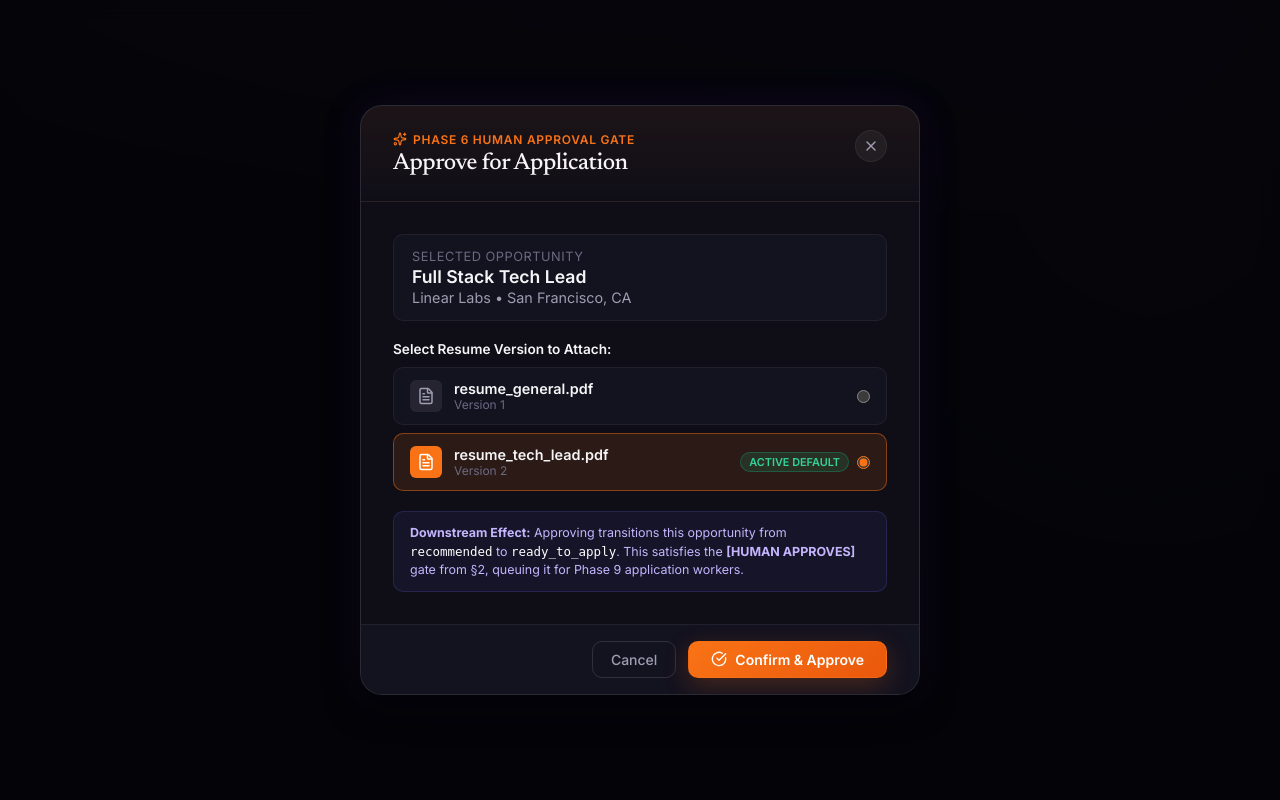
ApprovalModal › displays error message if approval API fails
Click the button "Confirm & Approve" at (788, 659), box [688, 641, 887, 678]
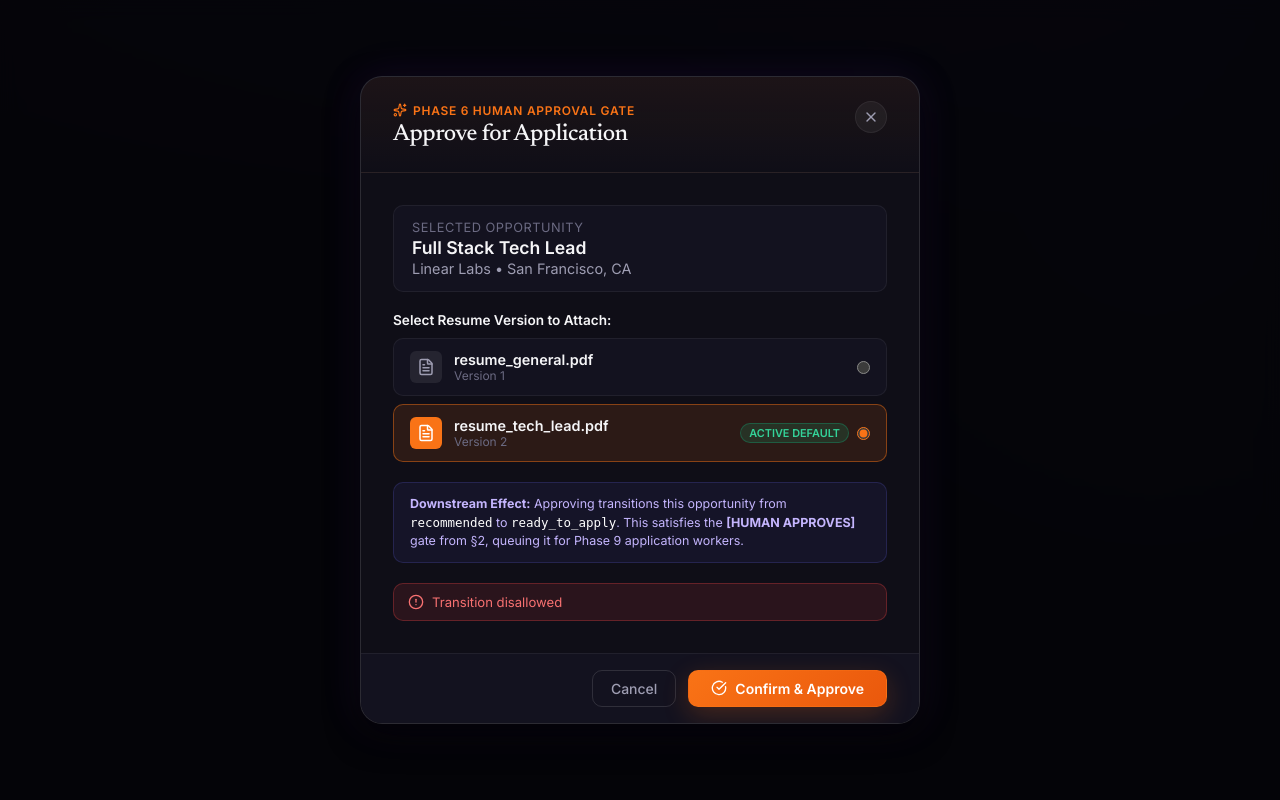
Expected: the text "Transition disallowed" is shown, [432, 594, 562, 610]
